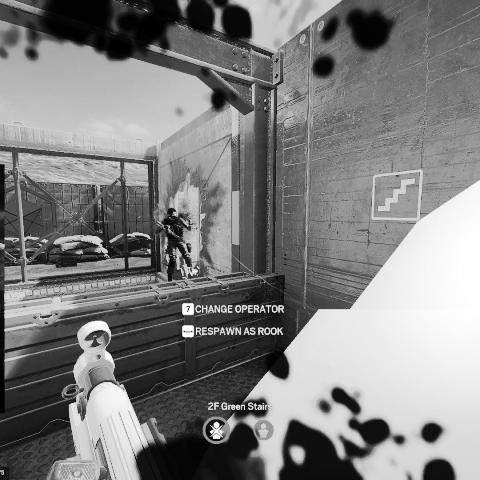Character: (154, 206, 195, 282)
Head: (166, 207, 178, 219)
